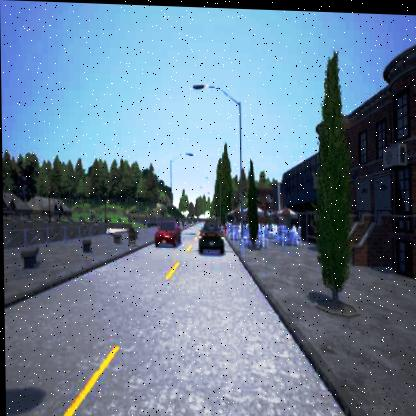vehicle: (198, 218, 223, 252), (153, 218, 180, 245)
